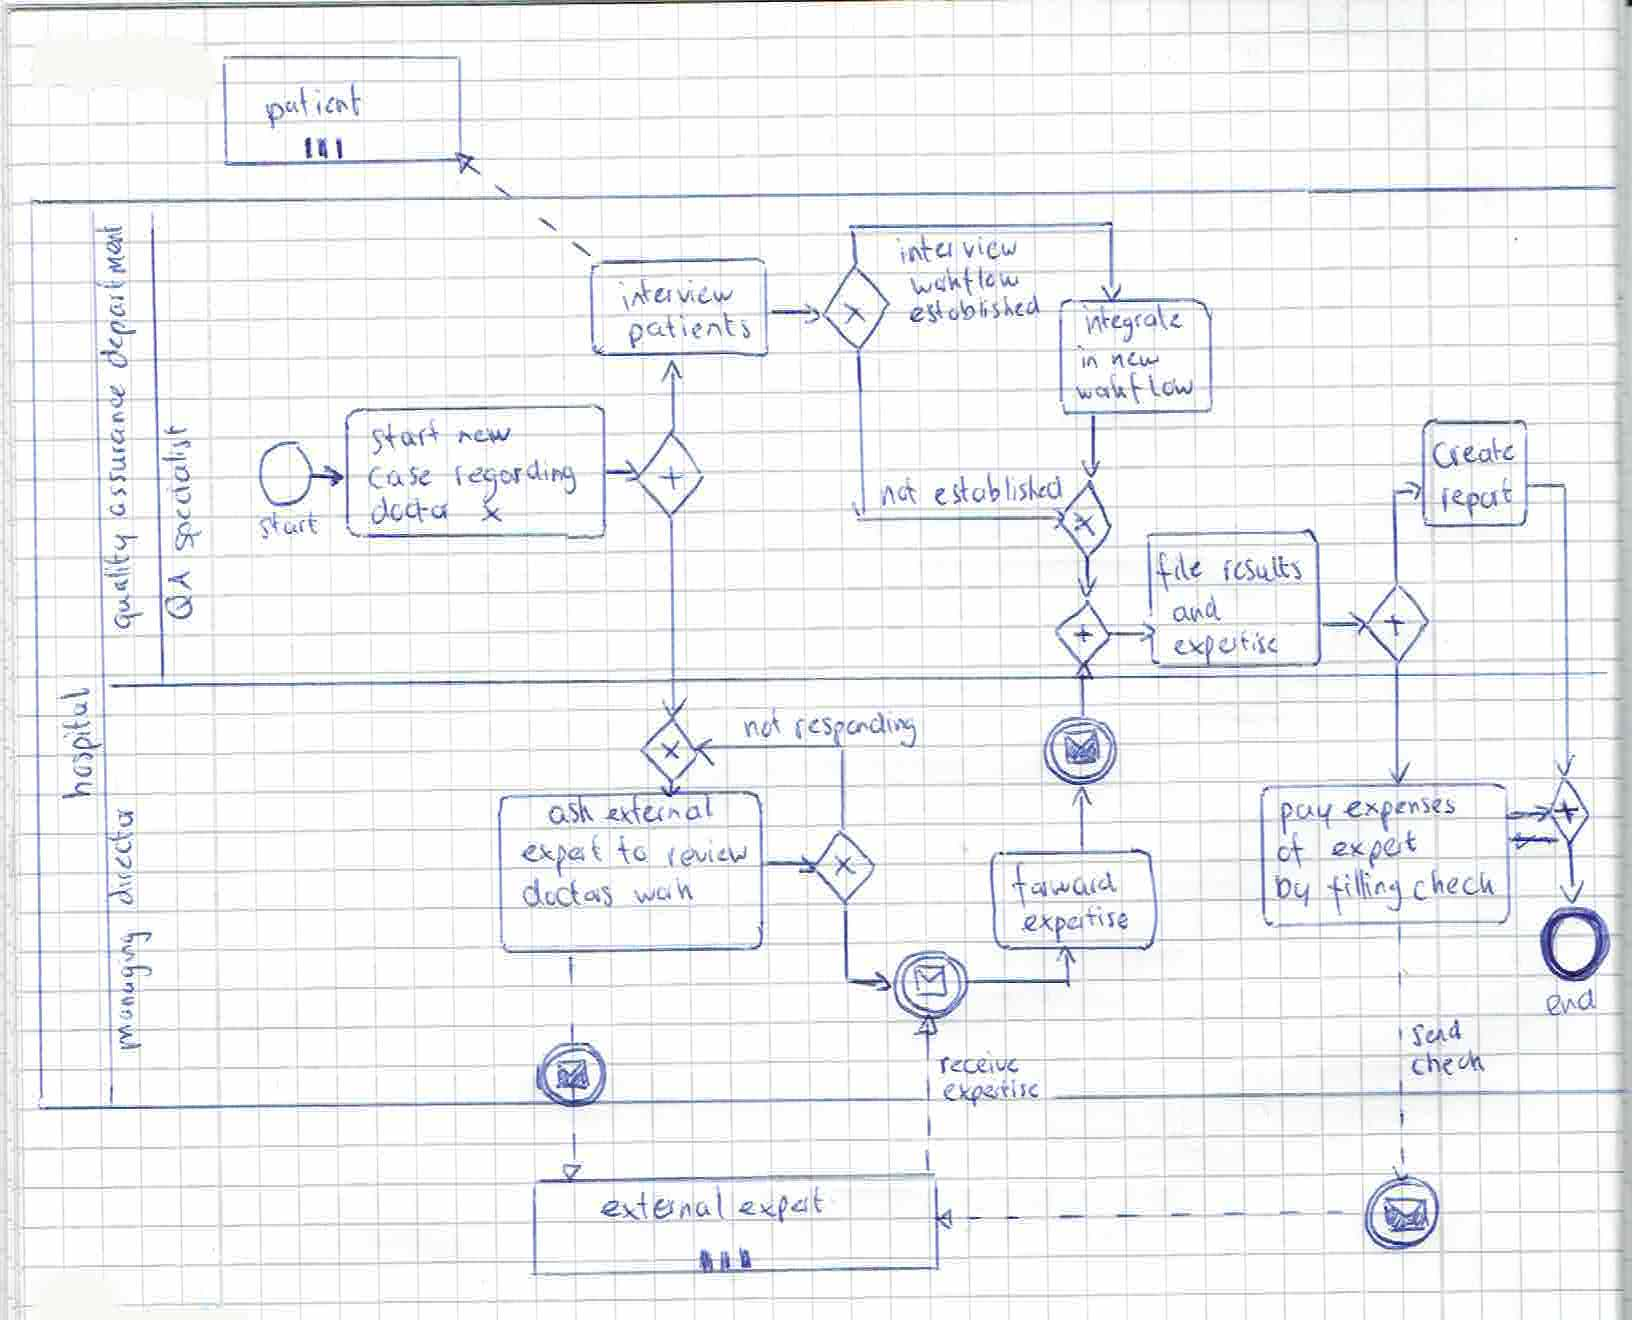QA: (157, 563, 201, 626)
Send: (1406, 1013, 1467, 1054)
and: (1167, 587, 1228, 629)
ask: (542, 789, 600, 831)
assurance: (99, 376, 135, 524)
by: (1268, 868, 1317, 913)
case: (361, 459, 438, 496)
check: (1406, 863, 1502, 908), (1404, 1044, 1492, 1082)
create: (1425, 430, 1523, 477)
department: (87, 219, 142, 375)
director: (100, 803, 141, 912)
doctor: (364, 489, 456, 531)
doctors: (516, 872, 619, 915)
end: (1538, 982, 1603, 1022)
established: (928, 468, 1070, 514), (902, 285, 1047, 332)
expenses: (1336, 790, 1463, 837)
expert: (514, 828, 609, 883), (733, 1178, 830, 1229), (1325, 824, 1422, 874)
expertise: (1015, 901, 1135, 949), (1167, 624, 1285, 671), (935, 1074, 1046, 1113)
external: (592, 1177, 731, 1229), (596, 788, 718, 832)
file: (1148, 546, 1208, 599)
filling: (1319, 861, 1408, 922)
forward: (1004, 856, 1124, 915)
hospital: (52, 680, 110, 807)
in: (1071, 339, 1105, 373)
integrate: (1077, 299, 1190, 347)
interview: (889, 226, 1026, 271), (612, 272, 741, 318)
managing: (111, 925, 159, 1057)
new: (451, 419, 519, 451), (1104, 346, 1166, 376)
not: (737, 700, 788, 745), (874, 469, 925, 513)
of: (1271, 825, 1311, 875)
patient: (257, 75, 368, 136)
patients: (621, 304, 757, 356)
pay: (1274, 793, 1340, 842)
quality: (95, 527, 150, 637)
receive: (933, 1044, 1026, 1080)
regarding: (446, 452, 583, 511)
report: (1435, 471, 1519, 525)
responding: (786, 705, 925, 756)
results: (1215, 548, 1310, 590)
review: (659, 834, 756, 875)
specialist: (154, 418, 209, 558)
start: (366, 412, 446, 462), (252, 506, 326, 546)
to: (608, 829, 653, 871)
work: (628, 871, 699, 910)
workflow: (903, 254, 1027, 303), (1069, 364, 1200, 410)
